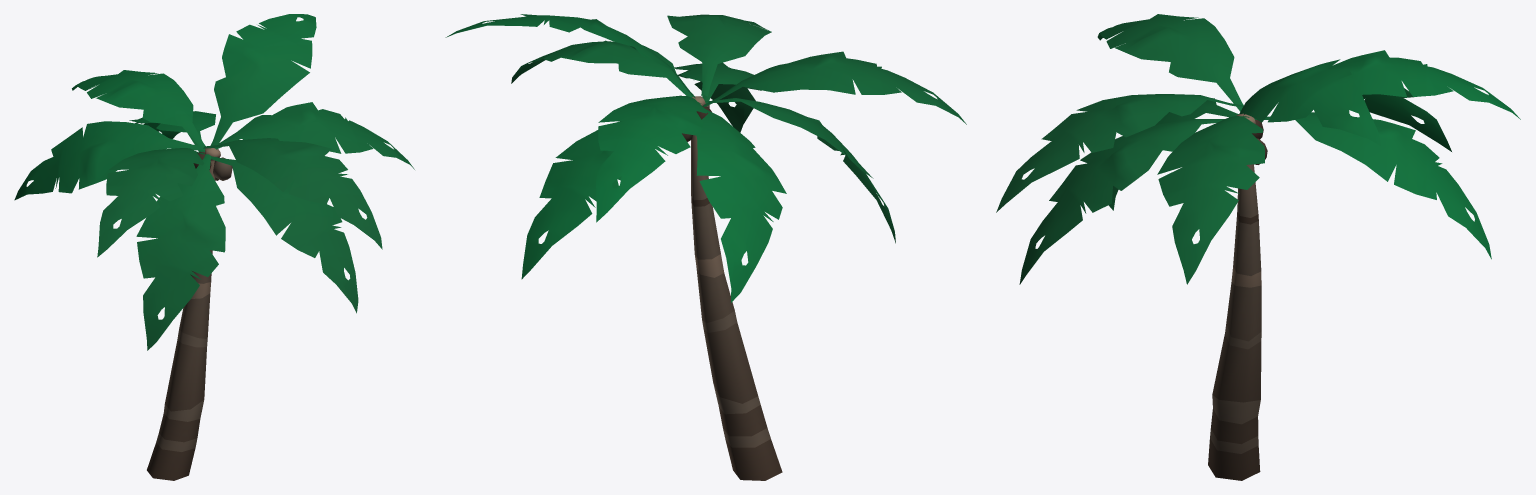
File: PalmTree_04.fbx
3 renders of one model, left to right at view 1: azimuth 30°, elevation 25°; view 2: azimuth 150°, elevation 25°; view 3: azimuth 270°, elevation 25°, orthographic. The views are drawn at different scales.
Parts seen in each view (by area): view 1: Cylinder.191; view 2: Cylinder.191; view 3: Cylinder.191.
Boxes of the visible parts, left/top/right/bottom form: Cylinder.191: left=14, top=14, right=414, bottom=480; Cylinder.191: left=445, top=14, right=966, bottom=480; Cylinder.191: left=996, top=14, right=1520, bottom=480.
Size of the model in its own units: 428 by 444 by 446.
